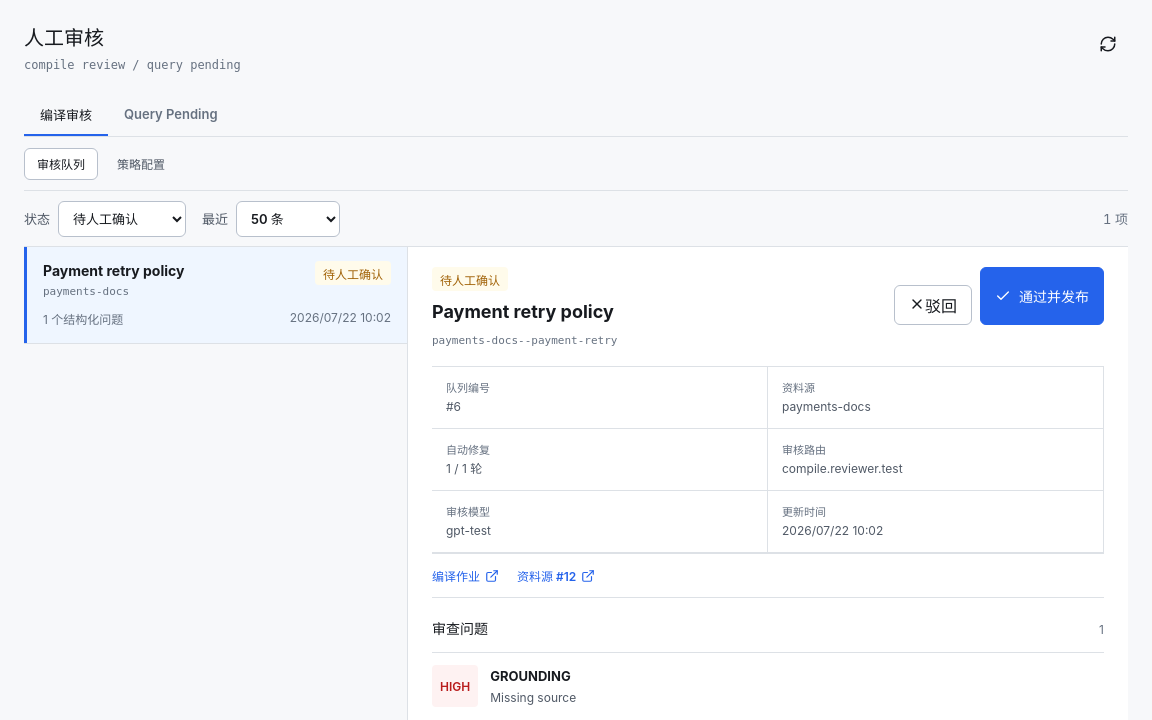
Test: reviews page › does not approve until confirmation and sends the current status
Click the button "通过并发布" at x=1042, y=296, box [980,267,1104,325]
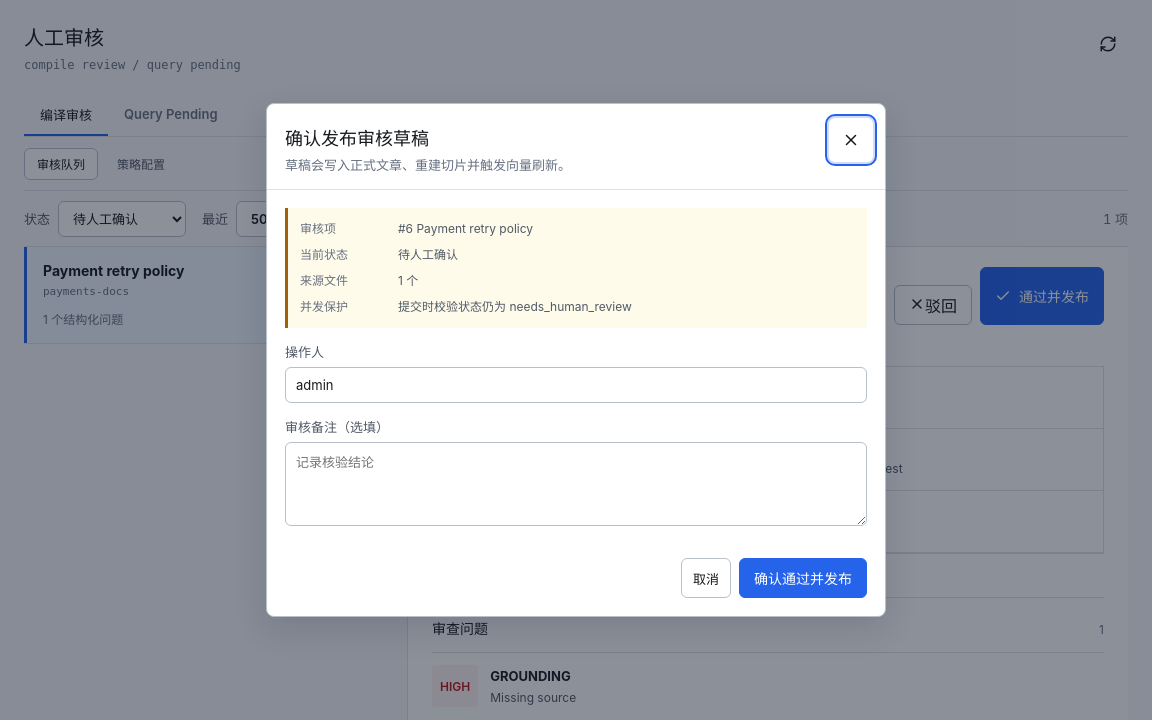
Expected: the text "提交时校验状态仍为 needs_human_review" is shown, [398,299,632,314]
Click the button "确认通过并发布" at x=803, y=578, box [739,558,867,598]
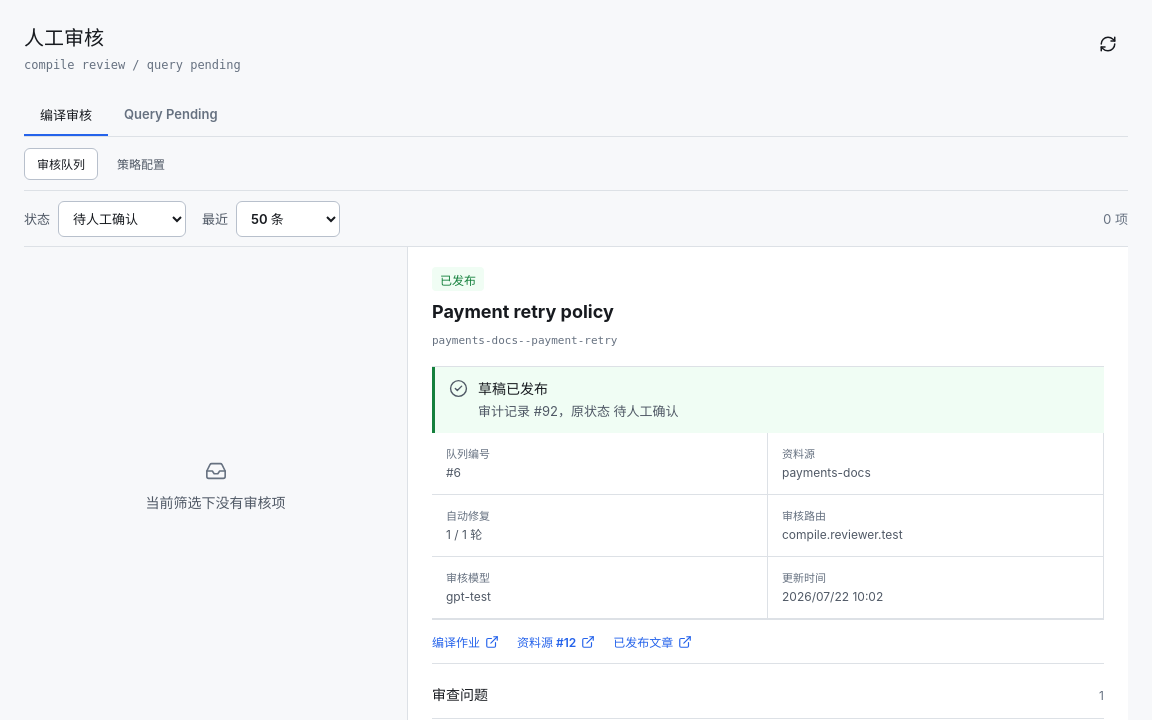
Expected: the text "草稿已发布" is shown, [478,380,548,397]
